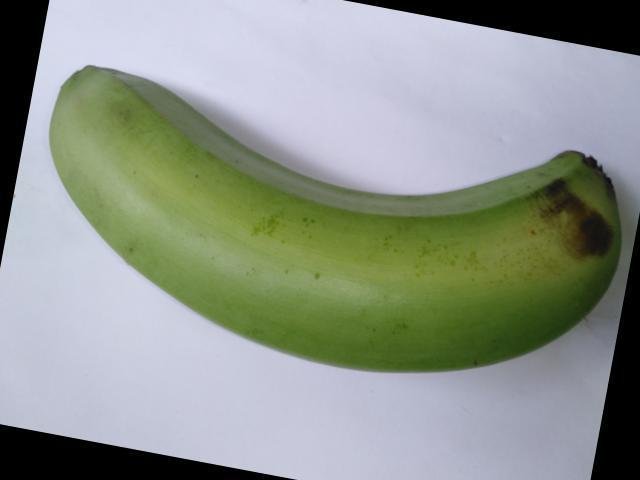freshunripe: (36, 50, 634, 387)
